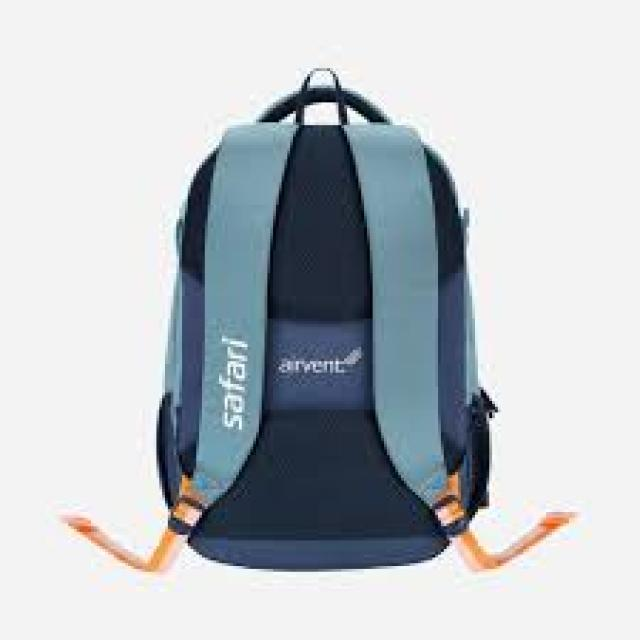backpack: (134, 46, 555, 614)
